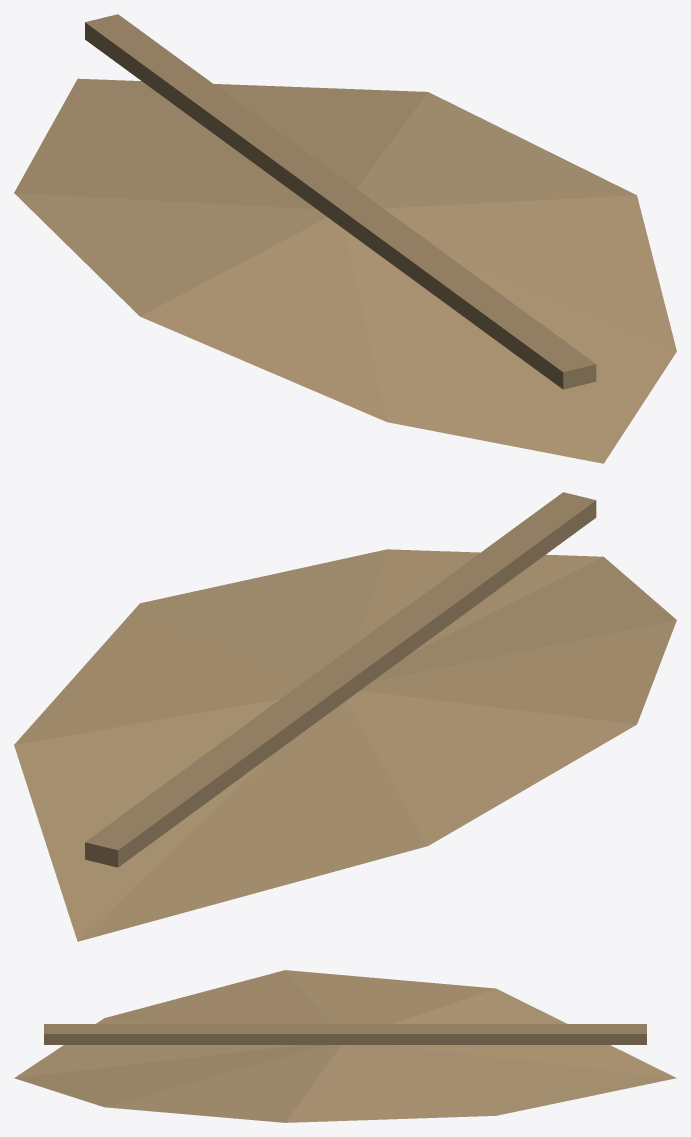
File: dry_leaf_1.gltf
The picture shows the model from 3 angles, top to bottom: view 1: azimuth 30°, elevation 25°; view 2: azimuth 150°, elevation 25°; view 3: azimuth 270°, elevation 25°; orthographic projection. The views are drawn at different scales.
Parts seen in each view (by area): view 1: dry_leaf_1; view 2: dry_leaf_1; view 3: dry_leaf_1.
Part boxes in pixels (left/top/right/bottom): dry_leaf_1: left=14, top=14, right=676, bottom=463; dry_leaf_1: left=14, top=492, right=676, bottom=941; dry_leaf_1: left=14, top=970, right=676, bottom=1122.
Bounding box in the file's own units: 0.12 × 0.018 × 0.22.
